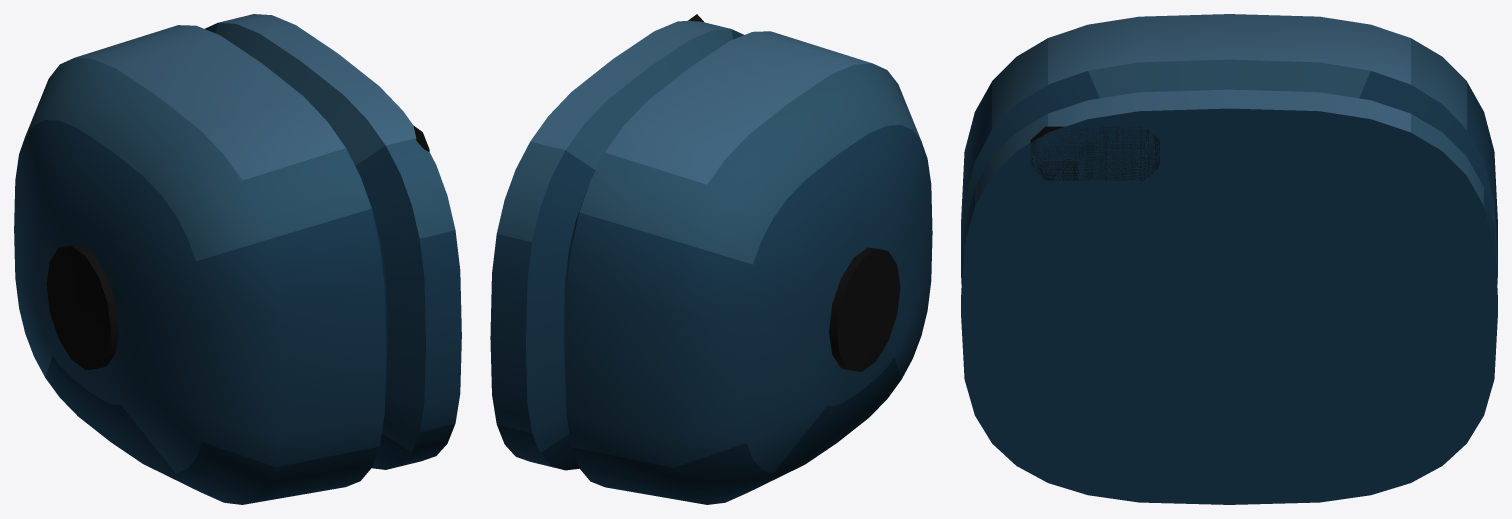
The model's file is deli_cannon_l_muzzle.glb.
The picture shows the model from 3 angles, left to right: view 1: azimuth 30°, elevation 25°; view 2: azimuth 150°, elevation 25°; view 3: azimuth 270°, elevation 25°; orthographic projection. The views are drawn at different scales.
Visible parts, largest first — view 1: muzzle, bore; view 2: muzzle, bore; view 3: muzzle, port_hole.
Part boxes in pixels (left/top/right/bottom): muzzle: left=14, top=14, right=461, bottom=504; bore: left=46, top=244, right=118, bottom=370; muzzle: left=490, top=20, right=932, bottom=504; bore: left=829, top=247, right=900, bottom=371; muzzle: left=961, top=14, right=1497, bottom=504; port_hole: left=1030, top=126, right=1159, bottom=180.
Bounding box in the file's own units: 6.55 × 9.2 × 10.8.
